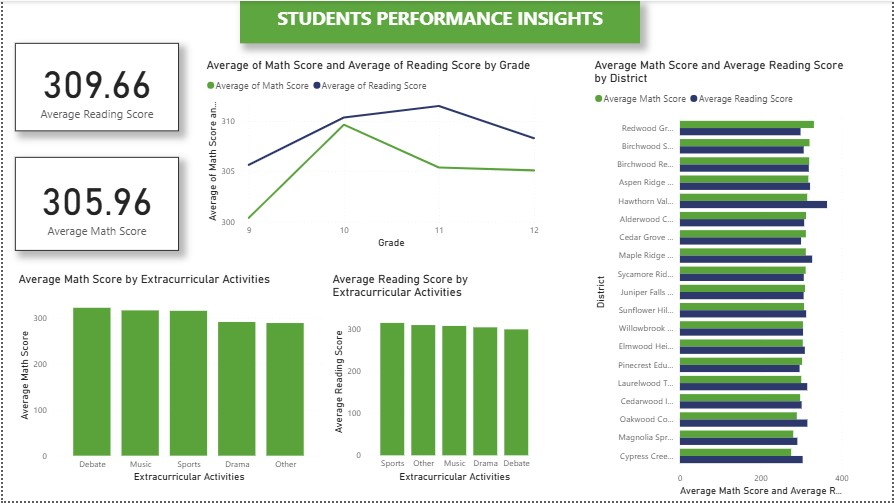

The page's visual inventory and layout, read from the dashboard file:
{"tool":"powerbi","page":{"name":"Report Summary","canvas":[1280,720],"ordinal":0},"visuals":[{"type":"lineChart","fields":{"Y":["Avg(Test Scores.Math Score)","Avg(Test Scores.Reading Score)"],"Category":["Test Scores.Grade"]},"box":[287.8,82.2,491.6,278.9],"z":0},{"type":"card","fields":{"Values":["Test Scores.Average Reading Score"]},"box":[17.9,60.8,236,126.9],"z":1000},{"type":"card","fields":{"Values":["Test Scores.Average Math Score"]},"box":[17.3,224.6,236.2,135.4],"z":2000},{"type":"clusteredBarChart","fields":{"Category":["Test Scores.District"],"Y":["Test Scores.Average Math Score","Test Scores.Average Reading Score"]},"box":[846.7,82.1,375.8,636.5],"z":3000},{"type":"columnChart","fields":{"Category":["StudentData.Extracurricular Activities"],"Y":["Test Scores.Average Math Score"]},"box":[17.9,389.7,450.5,307.5],"z":4000},{"type":"columnChart","fields":{"Category":["StudentData.Extracurricular Activities"],"Y":["Test Scores.Average Reading Score"]},"box":[469,390,311,307],"z":5000},{"type":"textbox","box":[341.5,0,575.6,60.8],"z":6000}]}

Visuals, with their boxes in screenshot pixels (x1, y1, x2, y2), scaled from the page's 1280x720 canvas onto the 894x503 screenshot:
lineChart - Avg(Test Scores.Math Score) x Avg(Test Scores.Reading Score): [left=201, top=57, right=544, bottom=252]
card - Test Scores.Average Reading Score: [left=13, top=42, right=177, bottom=131]
card - Test Scores.Average Math Score: [left=12, top=157, right=177, bottom=252]
clusteredBarChart - Test Scores.District x Test Scores.Average Math Score: [left=591, top=57, right=854, bottom=502]
columnChart - StudentData.Extracurricular Activities x Test Scores.Average Math Score: [left=13, top=272, right=327, bottom=487]
columnChart - StudentData.Extracurricular Activities x Test Scores.Average Reading Score: [left=328, top=272, right=545, bottom=487]
textbox: [left=239, top=0, right=641, bottom=42]
